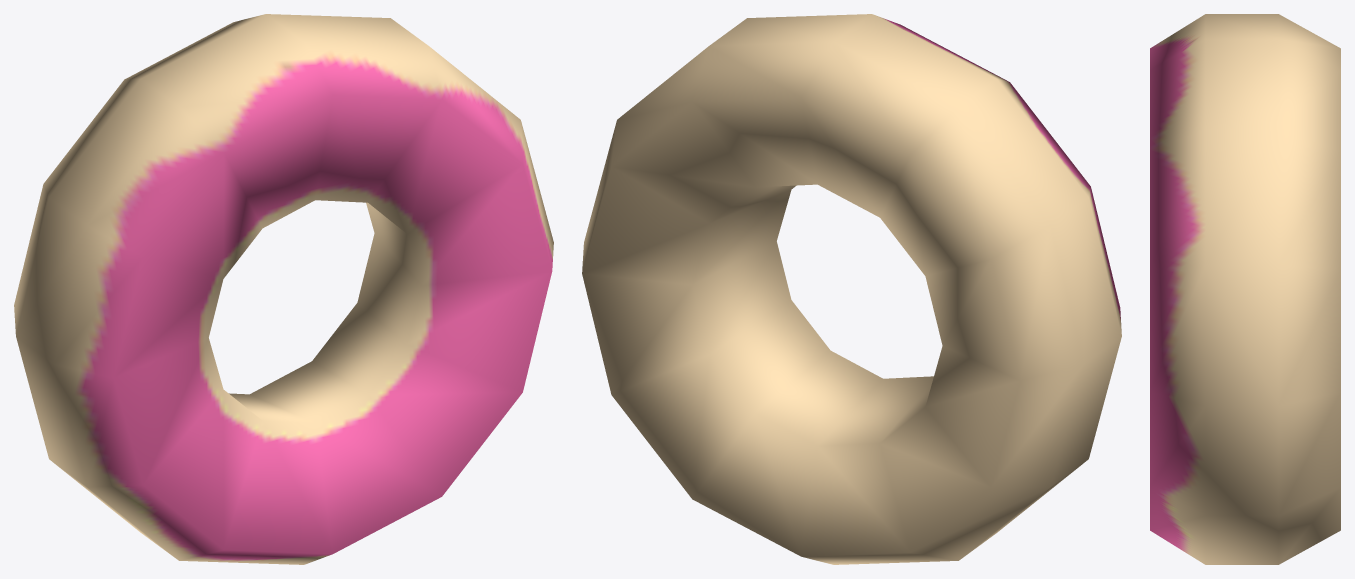
Rendered from loc_donut.obj.
3 renders of one model, left to right at view 1: azimuth 30°, elevation 25°; view 2: azimuth 150°, elevation 25°; view 3: azimuth 270°, elevation 25°, orthographic. The views are drawn at different scales.
Bounding box in the file's own units: 0.3984 × 0.3984 × 0.1377.
Materials: 1 (1 with a texture image).
